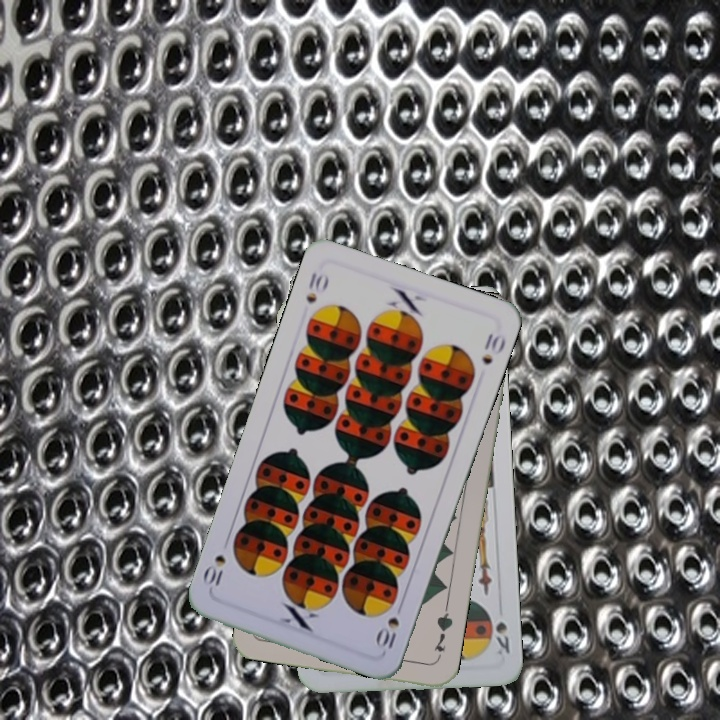G7: (430, 604, 456, 663)
S10: (373, 598, 406, 655), (302, 267, 332, 306)
SK: (491, 617, 512, 658)
